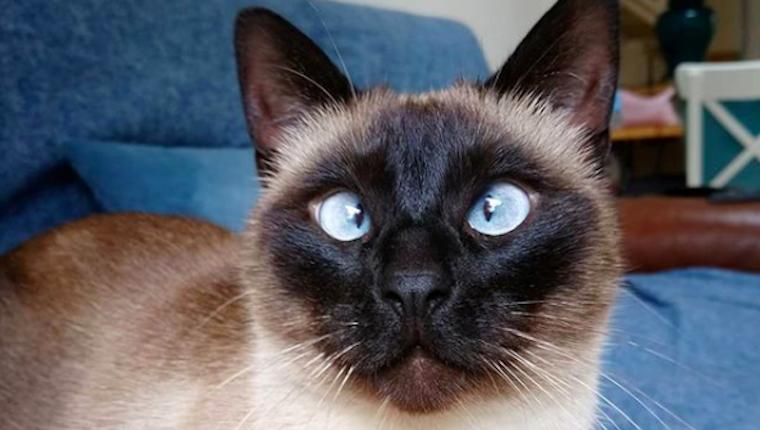siamese: (219, 1, 642, 430)
